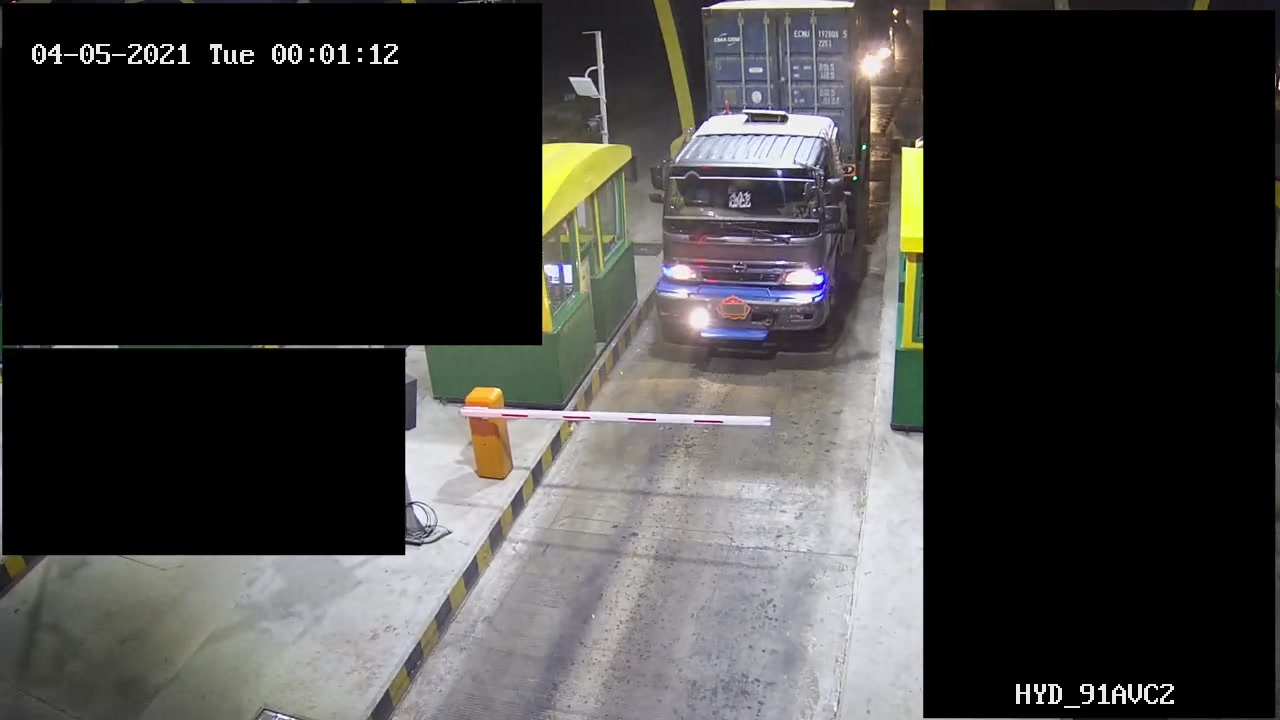F6: (653, 1, 871, 361)
